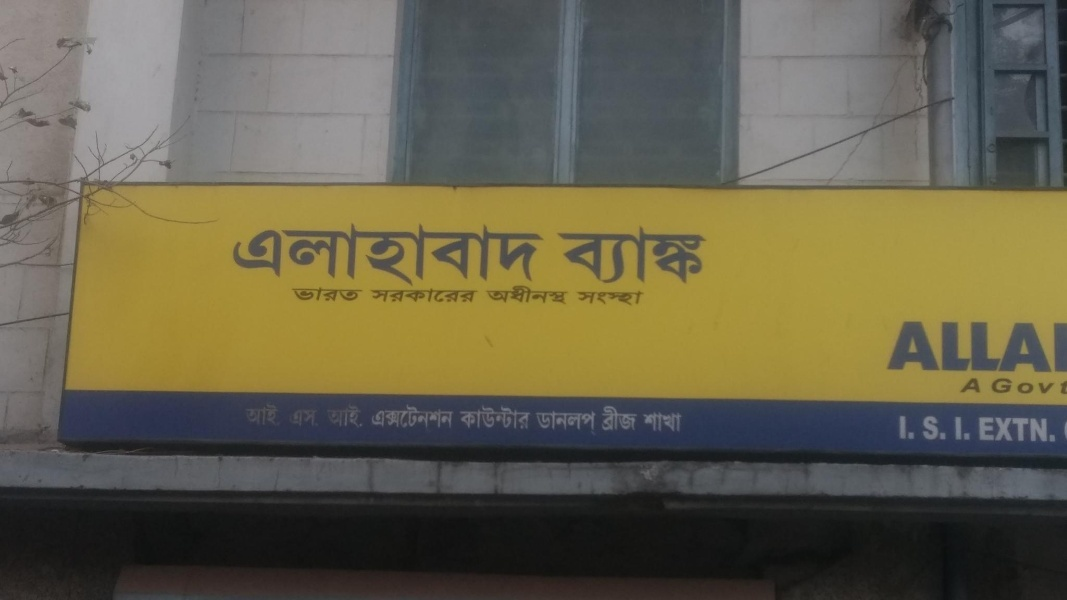text: (897, 302, 912, 379), (913, 302, 928, 379), (929, 302, 944, 379), (945, 302, 960, 379), (961, 302, 976, 379), (977, 302, 992, 379), (993, 302, 1008, 379), (1009, 302, 1024, 379), (1025, 302, 1040, 379), (1041, 302, 1056, 379), (561, 220, 576, 286), (577, 220, 592, 286), (593, 220, 608, 286), (609, 220, 624, 286), (625, 220, 640, 286), (641, 220, 656, 286), (657, 220, 672, 286), (673, 220, 688, 286), (689, 220, 704, 286), (241, 221, 256, 286), (257, 221, 272, 286), (273, 221, 288, 286), (289, 221, 304, 286), (305, 221, 320, 286), (321, 221, 336, 286), (337, 221, 352, 286), (353, 221, 368, 286), (369, 221, 384, 286), (385, 221, 400, 286), (401, 221, 416, 286), (417, 221, 432, 286), (433, 221, 448, 286), (449, 221, 464, 286), (465, 221, 480, 286), (481, 221, 496, 286), (497, 221, 512, 286), (513, 221, 528, 286), (529, 221, 544, 286), (226, 221, 240, 286), (897, 407, 912, 449), (929, 409, 944, 446), (977, 409, 992, 446), (993, 409, 1008, 446), (1009, 409, 1024, 446), (1025, 409, 1040, 446), (1041, 409, 1056, 446), (961, 409, 976, 445), (1057, 302, 1064, 379), (337, 401, 352, 435), (257, 398, 272, 432), (369, 401, 384, 435), (385, 401, 400, 435), (401, 401, 416, 435), (417, 401, 432, 435), (433, 401, 448, 435), (305, 402, 320, 435), (465, 401, 480, 433), (481, 401, 496, 433), (497, 401, 512, 433), (513, 401, 528, 433), (609, 405, 624, 437), (625, 405, 640, 437), (353, 401, 367, 435), (705, 220, 712, 286), (290, 402, 304, 435), (545, 405, 560, 433), (561, 405, 576, 433), (577, 405, 592, 433), (657, 407, 672, 435), (673, 407, 688, 435), (244, 398, 256, 432), (273, 398, 285, 432), (642, 407, 656, 435), (891, 302, 896, 379), (993, 376, 1008, 401), (1009, 376, 1024, 401), (1025, 376, 1040, 401), (1041, 376, 1056, 401), (950, 409, 960, 445), (597, 405, 608, 437), (497, 284, 512, 307), (513, 284, 528, 307), (529, 284, 544, 307), (545, 284, 560, 307), (326, 401, 336, 435), (888, 407, 896, 449), (913, 407, 921, 449), (555, 220, 560, 286), (961, 376, 976, 398), (545, 221, 550, 286), (305, 286, 320, 305), (321, 286, 336, 305), (337, 286, 352, 305), (353, 286, 368, 305), (369, 287, 384, 305), (385, 287, 400, 305), (401, 287, 416, 305), (417, 287, 432, 305), (433, 287, 448, 305), (449, 287, 464, 305), (465, 287, 480, 305), (561, 284, 572, 307), (535, 405, 544, 433), (593, 405, 602, 433), (291, 286, 304, 305), (577, 291, 592, 307), (593, 291, 608, 307), (609, 291, 624, 307), (625, 291, 640, 307), (449, 401, 456, 435), (922, 409, 928, 446), (487, 284, 496, 307), (1057, 376, 1065, 401), (529, 401, 535, 433), (945, 409, 950, 446), (1057, 409, 1062, 446), (952, 376, 960, 398), (977, 376, 985, 398), (321, 402, 326, 435), (459, 401, 464, 433), (641, 291, 649, 307), (689, 407, 692, 435), (974, 409, 976, 446), (977, 409, 978, 445), (641, 405, 642, 437), (991, 376, 992, 401), (481, 287, 482, 305)
